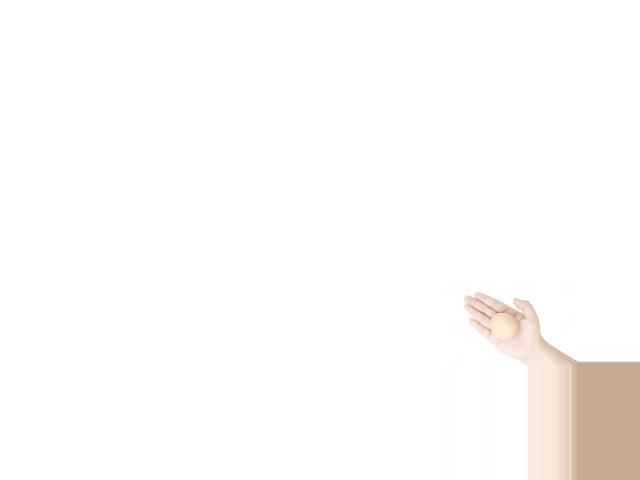egg: (491, 313, 519, 340)
